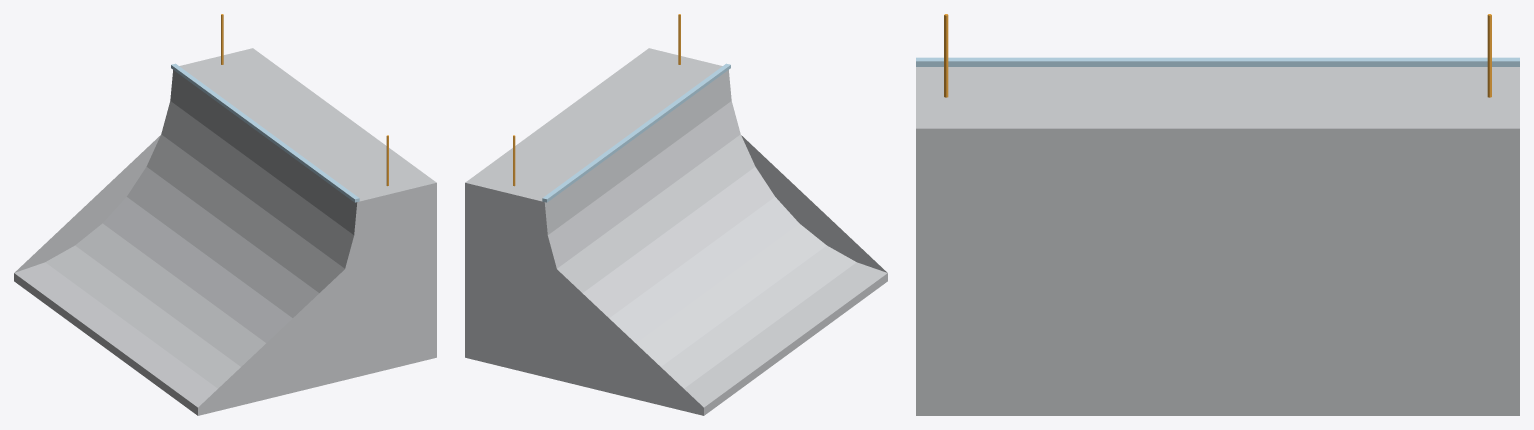
File: ski-resort-and-snow-park-halfpipe-wall-right-9e65dab2__25970.glb
3 renders of one model, left to right at view 1: azimuth 30°, elevation 25°; view 2: azimuth 150°, elevation 25°; view 3: azimuth 270°, elevation 25°, orthographic. The views are drawn at different scales.
Parts seen in each view (by area): view 1: halfpipe-wall-right; view 2: halfpipe-wall-right; view 3: halfpipe-wall-right.
Boxes of the visible parts, x1,y1,x2,y2 form: halfpipe-wall-right: [14, 14, 436, 415]; halfpipe-wall-right: [465, 14, 887, 415]; halfpipe-wall-right: [916, 14, 1519, 415].
Size of the model in its own units: 6 by 5.4 by 8.
